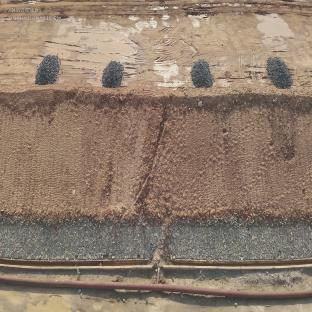rock_toe: (0, 216, 312, 258)
toe_drain: (0, 256, 311, 271)
